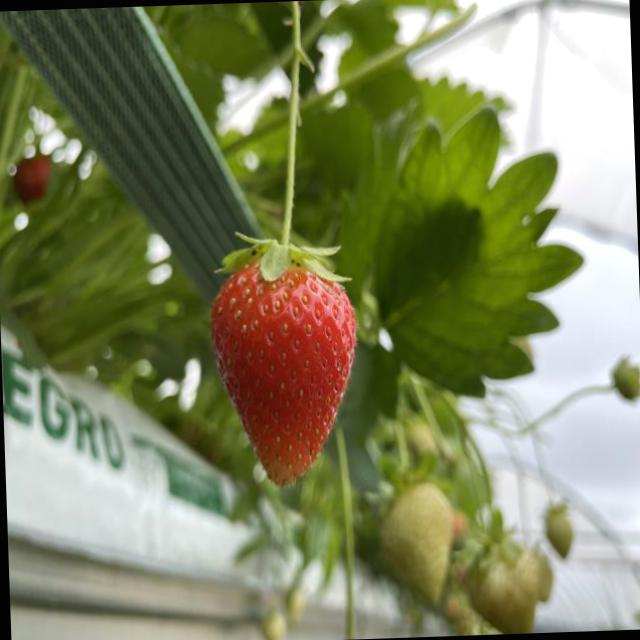stem: (220, 1, 348, 282)
strawberryR: (210, 261, 355, 485)
